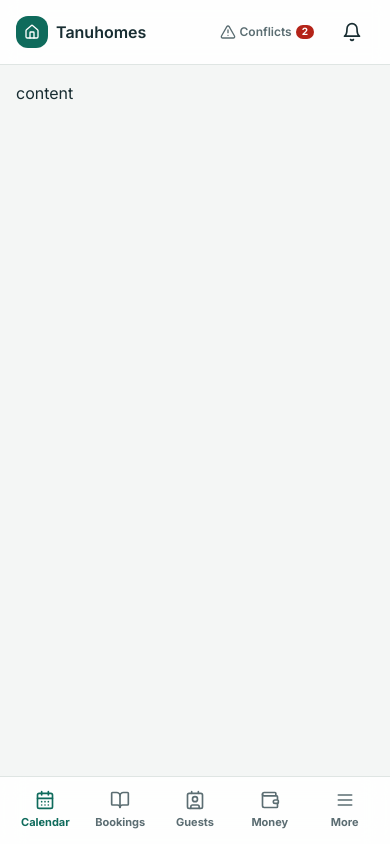
Scenario: AppShell › More opens the menu drawer with every destination
Click the button "More": coordinates (345, 810) [307,777,382,843]
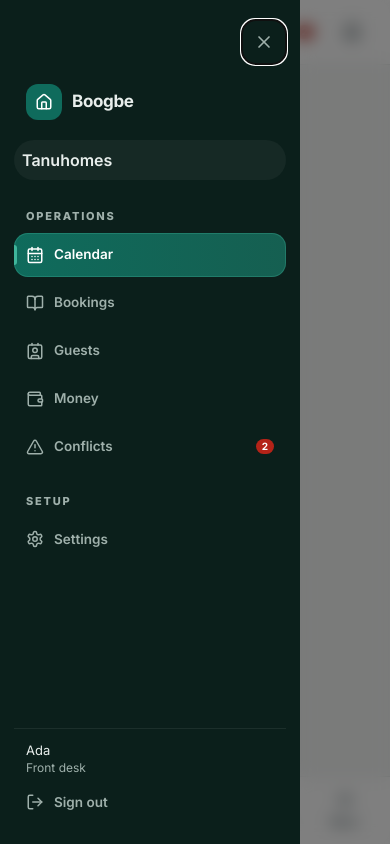
expect the link "Settings" is shown: met, box [26,530,108,548]
